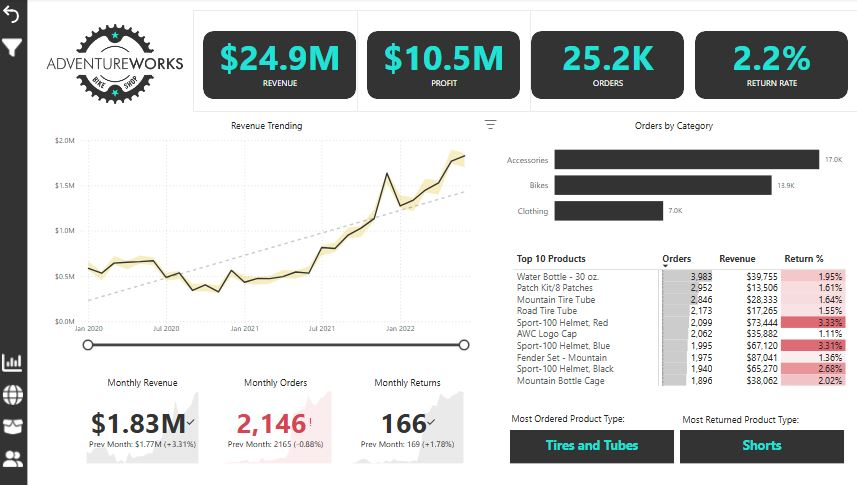

The page's visual inventory and layout, read from the dashboard file:
{"tool":"powerbi","page":{"name":"Executive","canvas":[1280,720],"ordinal":0},"visuals":[{"type":"image","title":"AW Logo","box":[24.5,13,263.5,135.4],"z":0},{"type":"shape","box":[288,30.2,224.6,99.4],"z":0,"group":"g1"},{"type":"actionButton","box":[0,648,59,46.1],"z":0,"group":"g2"},{"type":"shape","title":"Left Nav Background","box":[0,5.8,43.2,714.2],"z":1000},{"type":"shape","box":[535.2,30.2,224.6,99.4],"z":1000,"group":"g1"},{"type":"actionButton","box":[0,463.7,59,46.1],"z":1000,"group":"g2"},{"type":"group","id":"g1","title":"KPI ","box":[288,30.2,966.2,99.4],"z":2000},{"type":"shape","box":[782.4,30.2,224.6,99.4],"z":2000,"group":"g1"},{"type":"actionButton","box":[0,586.6,59,46.1],"z":2000,"group":"g2"},{"type":"card","title":"Total Rev Card","fields":{"Values":["Measured Table.Total Revenue"]},"box":[267.8,0,263.5,149.8],"z":3000},{"type":"shape","box":[1029.6,30.2,224.6,99.4],"z":3000,"group":"g1"},{"type":"actionButton","box":[0,525.1,59,46.1],"z":3000,"group":"g2"},{"type":"card","title":"Total Orders cards","fields":{"Values":["Measured Table.Total Orders"]},"box":[512.6,0,263.5,149.8],"z":4000},{"type":"card","title":"Total Return Card","fields":{"Values":["Measured Table.Total Return"]},"box":[766.1,0,263.5,149.8],"z":5000},{"type":"card","title":"Return rate Card","fields":{"Values":["Measured Table.Return Rate"]},"box":[1016.6,0,263.5,149.8],"z":6000},{"type":"lineChart","title":"Weekly Revenue","fields":{"Y":["Measured Table.Total Revenue"],"Category":["sCalendar Lookup.Month"]},"box":[76.3,149.8,633.6,365.8],"z":7000},{"type":"kpi","title":"Monthly Revenue","fields":{"Indicator":["Measured Table.Total Revenue"],"TrendLine":["sCalendar Lookup.Start of Month"],"Goal":["Measured Table.Previous Month Return"]},"box":[76.3,551.5,191.5,109.4],"z":8000},{"type":"kpi","title":"Monthly Orders","fields":{"TrendLine":["sCalendar Lookup.Start of Month"],"Indicator":["Measured Table.Total Orders"],"Goal":["Measured Table.Previous Month Order"]},"box":[288,548.6,207.4,110.9],"z":9000},{"type":"kpi","title":"Monthly Revenue","fields":{"TrendLine":["sCalendar Lookup.Start of Month"],"Goal":["Measured Table.Previous Month Return"],"Indicator":["Measured Table.Total Return"]},"box":[518.4,551.5,191.5,110.9],"z":10000},{"type":"clusteredBarChart","title":"Orders by Category","fields":{"Category":["Product Categories Lookup.CategoryName"],"Y":["Measured Table.Total Orders"]},"box":[704.2,164.2,548.6,195.8],"z":11000},{"type":"pivotTable","fields":{"Rows":["Product Lookup.ProductName"],"Values":["Measured Table.Total Orders","Measured Table.Total Revenue","Measured Table.Return Rate"]},"box":[743,360,537.1,227.5],"z":12000},{"type":"card","fields":{"Values":["Min(Product Subcategories Lookup.SubcategoryName)"]},"box":[709.9,642.2,257.8,50.4],"z":13000},{"type":"textbox","box":[709.9,606.2,270.7,36],"z":14000},{"type":"card","fields":{"Values":["Min(Product Subcategories Lookup.SubcategoryName)"]},"box":[993.5,640.7,250.6,50.4],"z":15000},{"type":"textbox","box":[993.5,604.7,270.7,36],"z":16000},{"type":"group","id":"g2","title":"Navigation Button","box":[0,463.7,59,230.4],"z":17000}]}

Visuals, with their boxes on the page's 1280x720 design canvas (x1, y1, x2, y2). These are canvas units, not pixel positions in the 857x485 screenshot, which may show the page scaled, cropped or inside an application window:
"AW Logo" image: 24, 13, 288, 148
shape: 288, 30, 513, 130
actionButton: 0, 648, 59, 694
"Left Nav Background" shape: 0, 6, 43, 720
shape: 535, 30, 760, 130
actionButton: 0, 464, 59, 510
"KPI " group: 288, 30, 1254, 130
shape: 782, 30, 1007, 130
actionButton: 0, 587, 59, 633
"Total Rev Card" card: 268, 0, 531, 150
shape: 1030, 30, 1254, 130
actionButton: 0, 525, 59, 571
"Total Orders cards" card: 513, 0, 776, 150
"Total Return Card" card: 766, 0, 1030, 150
"Return rate Card" card: 1017, 0, 1280, 150
"Weekly Revenue" lineChart: 76, 150, 710, 516
"Monthly Revenue" kpi: 76, 552, 268, 661
"Monthly Orders" kpi: 288, 549, 495, 660
"Monthly Revenue" kpi: 518, 552, 710, 662
"Orders by Category" clusteredBarChart: 704, 164, 1253, 360
pivotTable - Product Lookup.ProductName x Measured Table.Total Orders: 743, 360, 1280, 588
card - Min(Product Subcategories Lookup.SubcategoryName): 710, 642, 968, 693
textbox: 710, 606, 981, 642
card - Min(Product Subcategories Lookup.SubcategoryName): 994, 641, 1244, 691
textbox: 994, 605, 1264, 641
"Navigation Button" group: 0, 464, 59, 694
